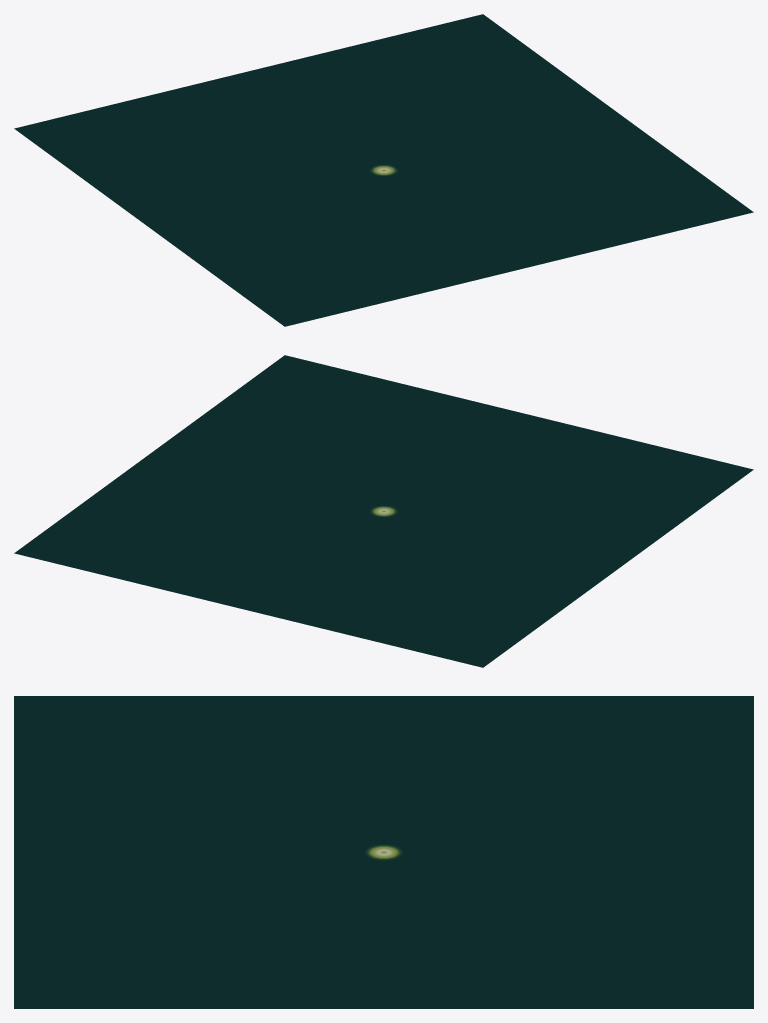
Rendered from light_scene.glb.
The picture shows the model from 3 angles, top to bottom: view 1: azimuth 30°, elevation 25°; view 2: azimuth 150°, elevation 25°; view 3: azimuth 270°, elevation 25°; orthographic projection. The views are drawn at different scales.
Parts seen in each view (by area): view 1: Plane; view 2: Plane; view 3: Plane.
Boxes of the visible parts, bbox=[...] form: Plane: bbox=[14, 14, 753, 326]; Plane: bbox=[14, 355, 753, 667]; Plane: bbox=[14, 696, 753, 1008].
Size of the model in its own units: 192 by 0 by 192.
Materials: 1 (1 with a texture image).
